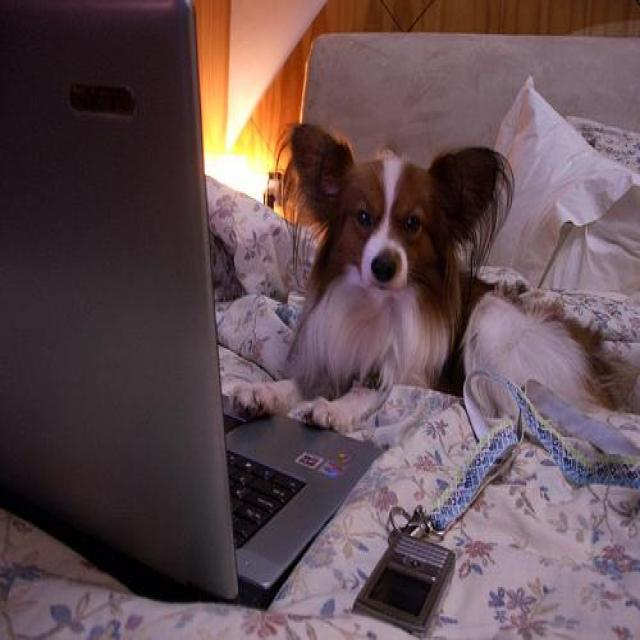papillon: (221, 120, 639, 482)
